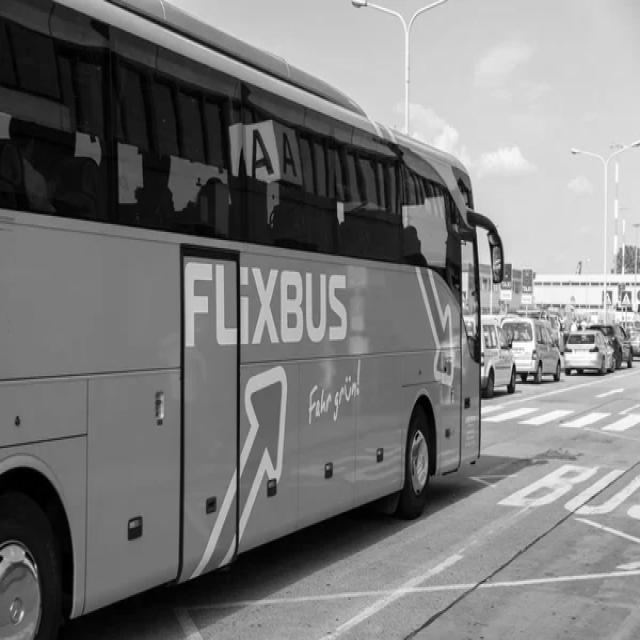Bus: (0, 0, 505, 639)
Car: (504, 318, 566, 384), (482, 316, 517, 398), (588, 323, 634, 369), (566, 332, 616, 374)
